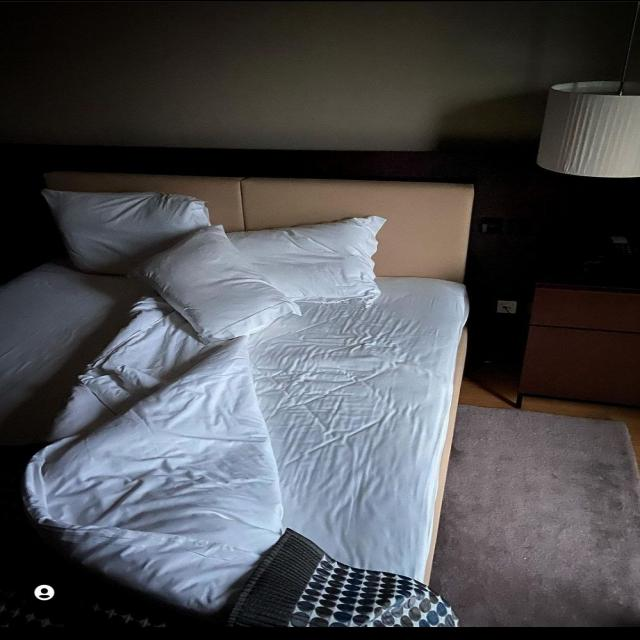bed: (0, 165, 468, 640)
